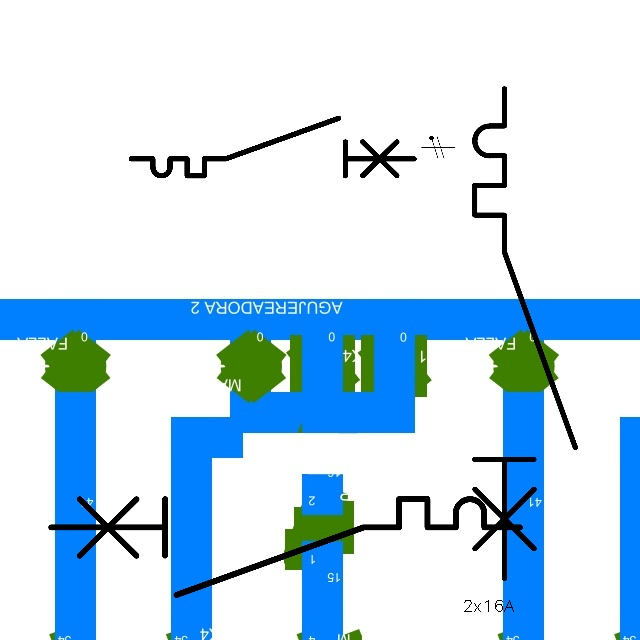interruptor_termomagnetico: (462, 76, 588, 591), (39, 487, 532, 607), (124, 111, 421, 183)
